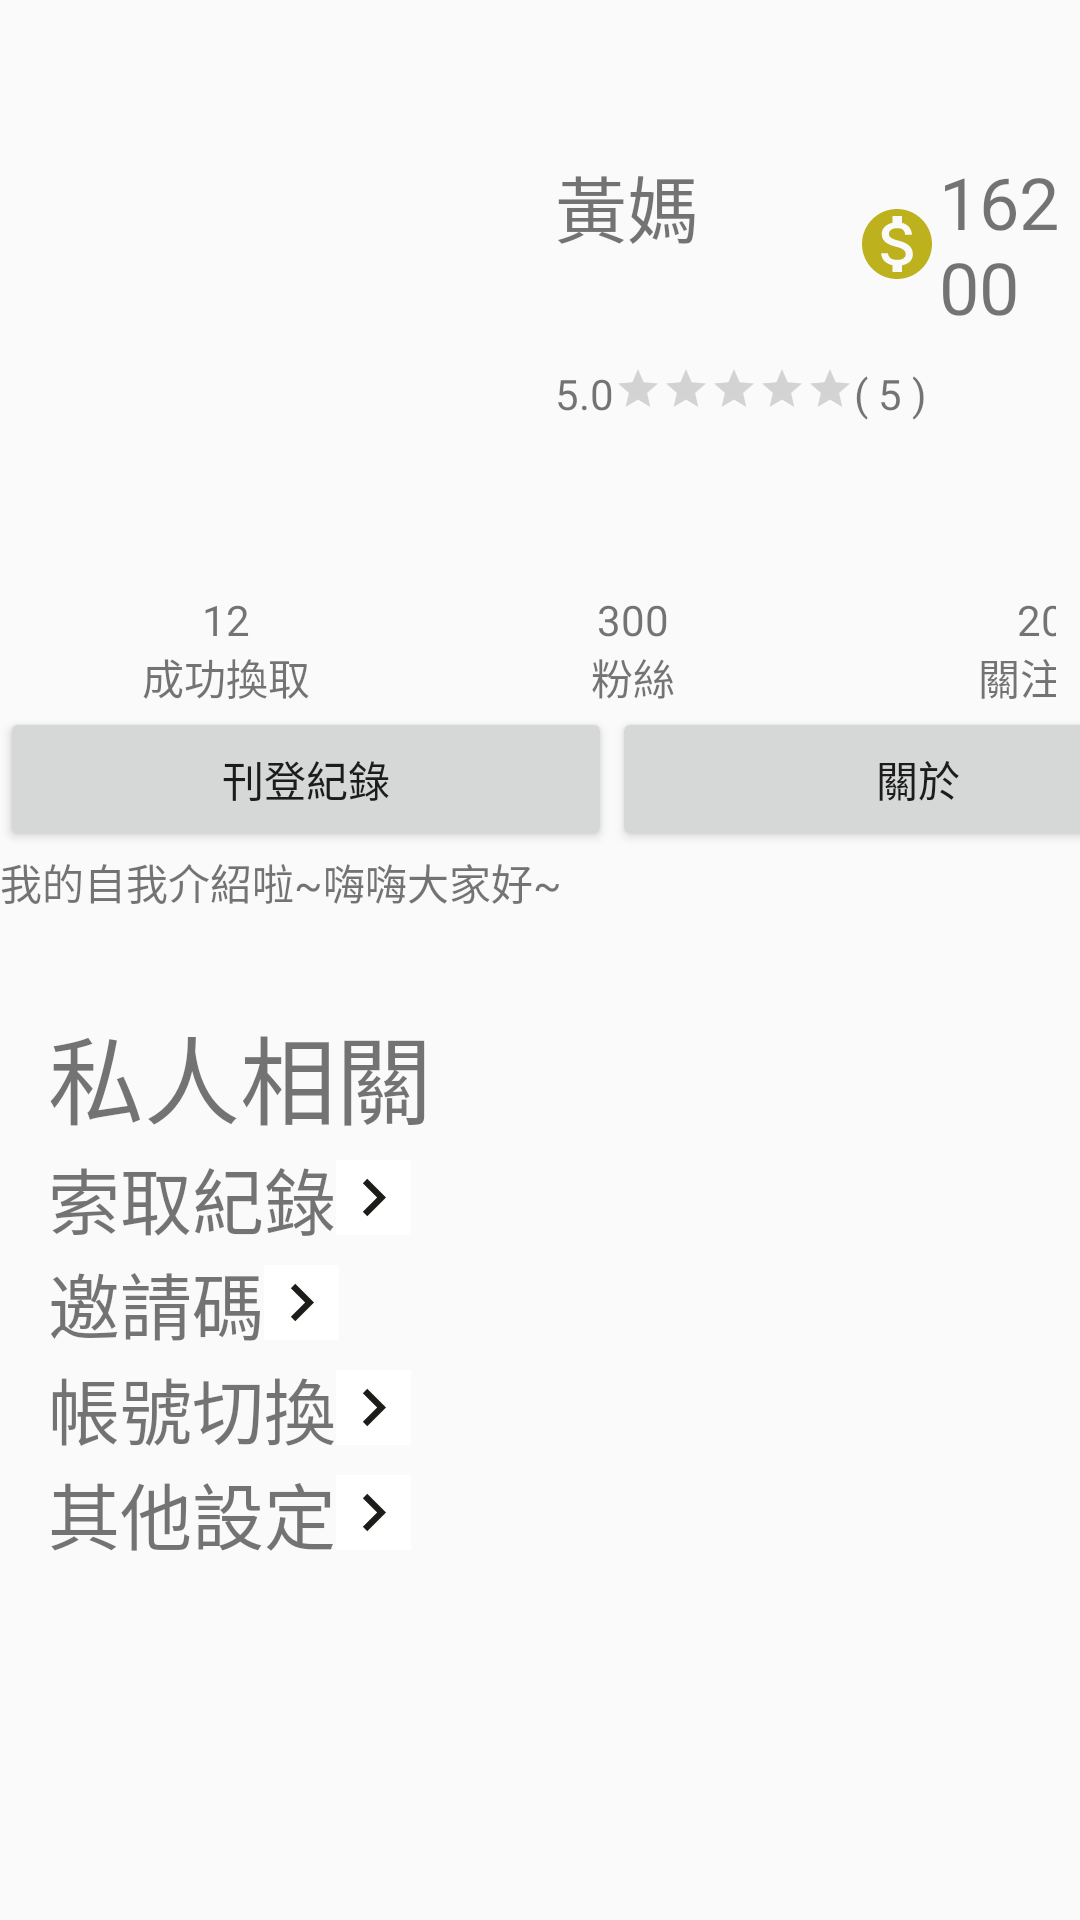

Icons on this 1080x1920 Android screen, each with its box as [x1, y1, x2, y2]:
arrow: [363, 1179, 386, 1216], [291, 1284, 314, 1321], [363, 1389, 386, 1426], [363, 1494, 386, 1531]
coin: [862, 209, 932, 279]
